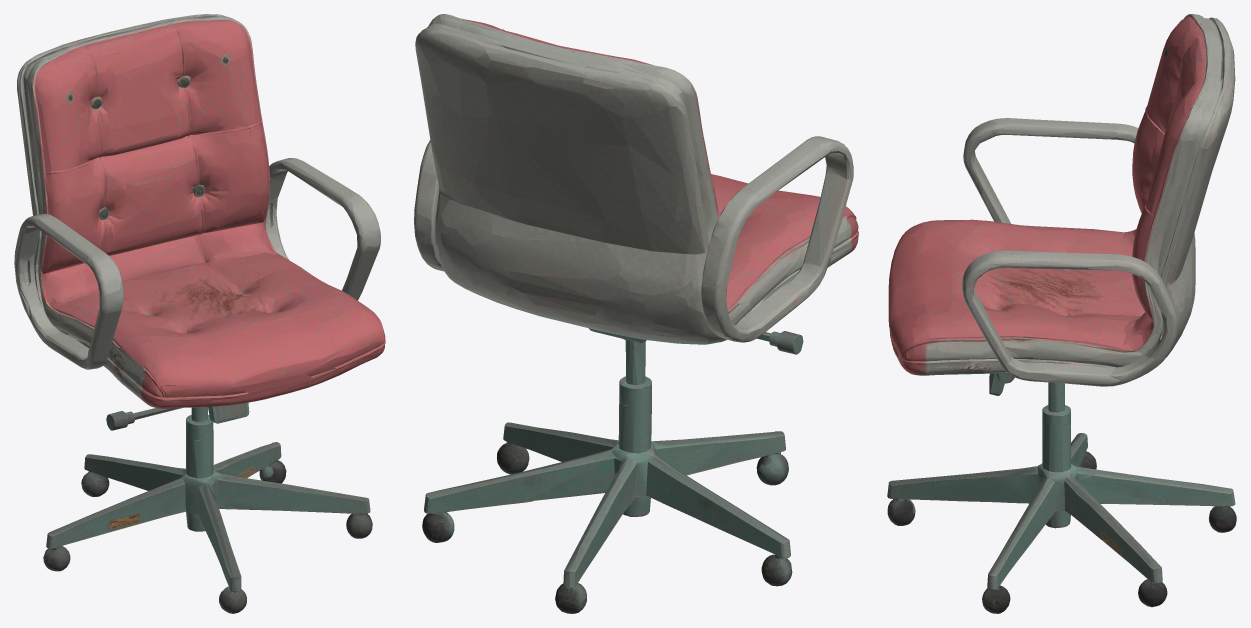
The model's file is sedia_B.glb.
The picture shows the model from 3 angles, left to right: view 1: azimuth 30°, elevation 25°; view 2: azimuth 150°, elevation 25°; view 3: azimuth 270°, elevation 25°; orthographic projection. The views are drawn at different scales.
Visible parts, largest first — view 1: Mesh_0; view 2: Mesh_0; view 3: Mesh_0.
Boxes of the visible parts, x1,y1,x2,y2 form: Mesh_0: [14, 14, 385, 613]; Mesh_0: [414, 14, 858, 613]; Mesh_0: [887, 14, 1236, 613].
Size of the model in its own units: 0.6436 by 1 by 0.6515.
1 material, 1 textured.
